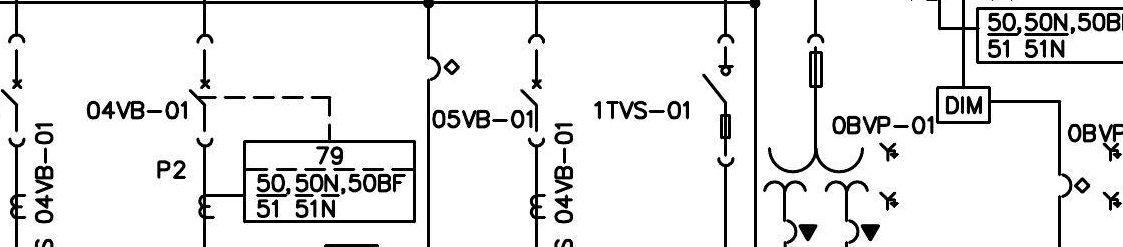22_breaker: (187, 33, 214, 148), (519, 33, 545, 148)
22_ds: (701, 33, 736, 168)
22_vt_3p: (762, 32, 900, 245)
DIM: (935, 86, 991, 124)
